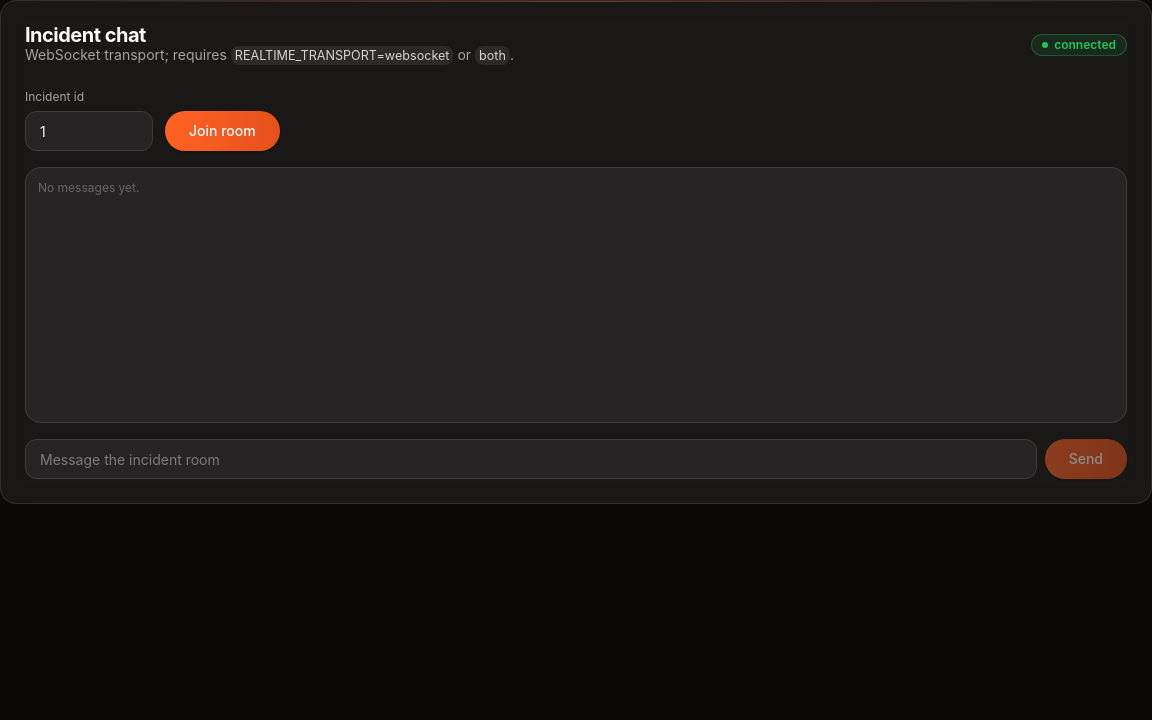
Test: ChatPage › does not send an empty message and leaves an already-joined room
This screenshot has width=1152, height=720.
Click the button "Join room". click: (222, 131)
box: [165,111,280,151]
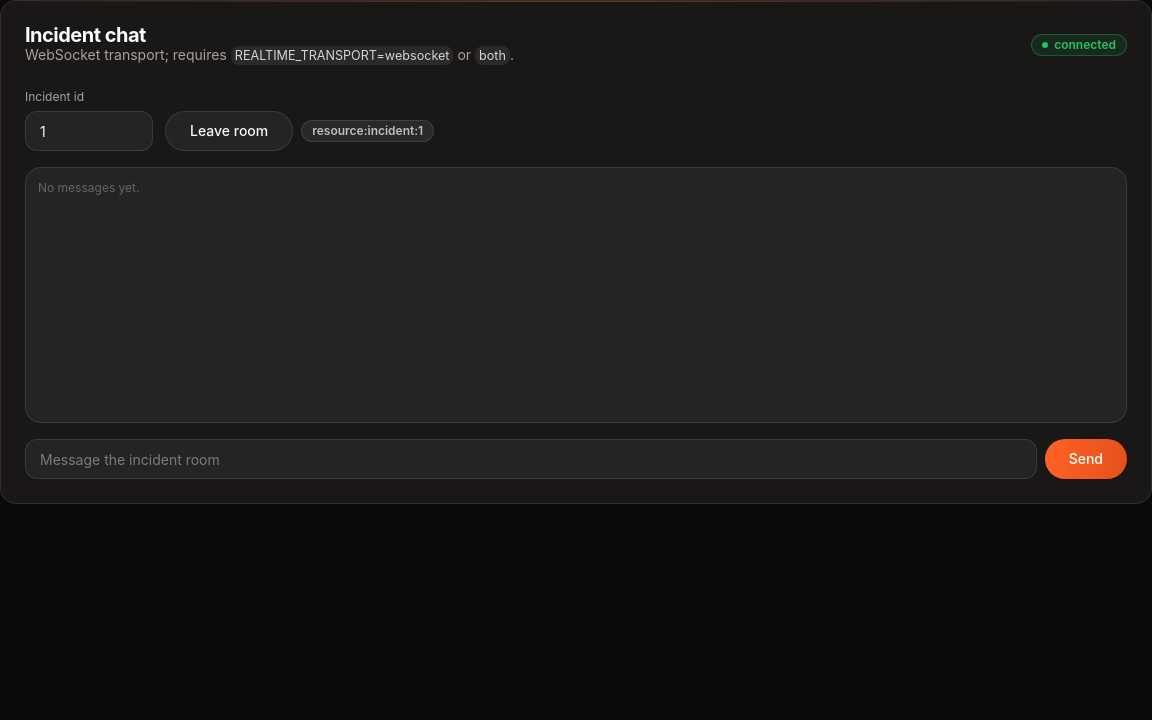
Click the button "Send". click: (1086, 459)
box: [1045,439,1127,479]
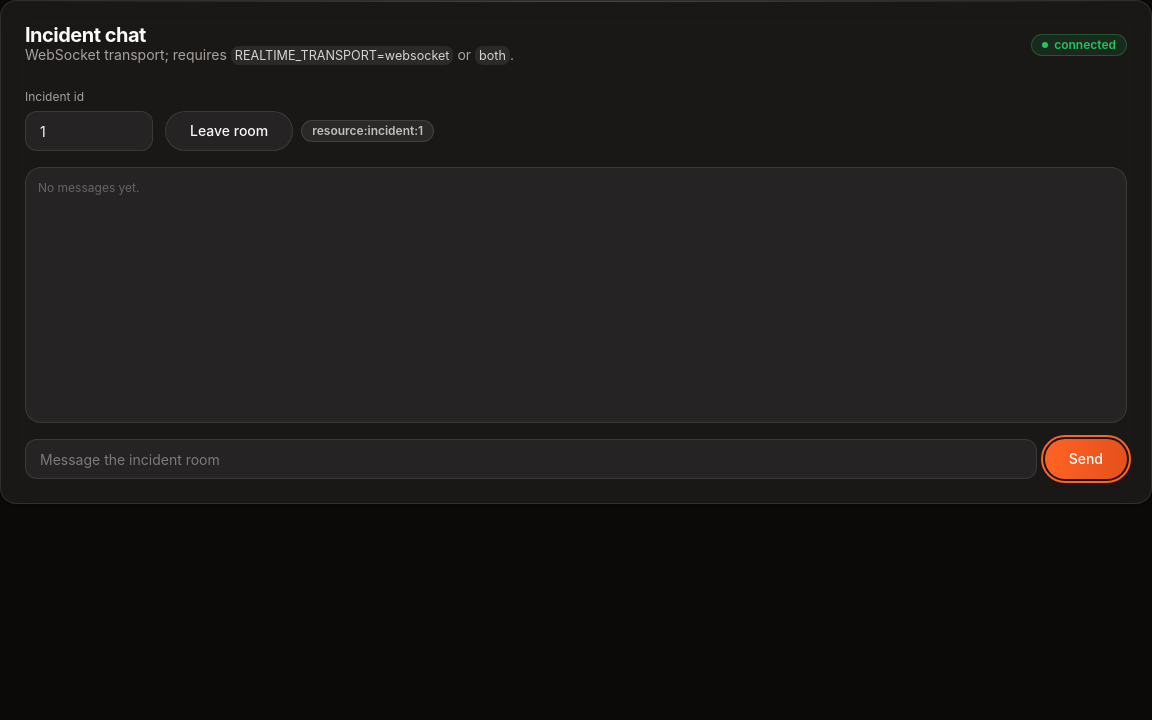
Click the button "Leave room". click: (229, 131)
box: [165,111,293,151]
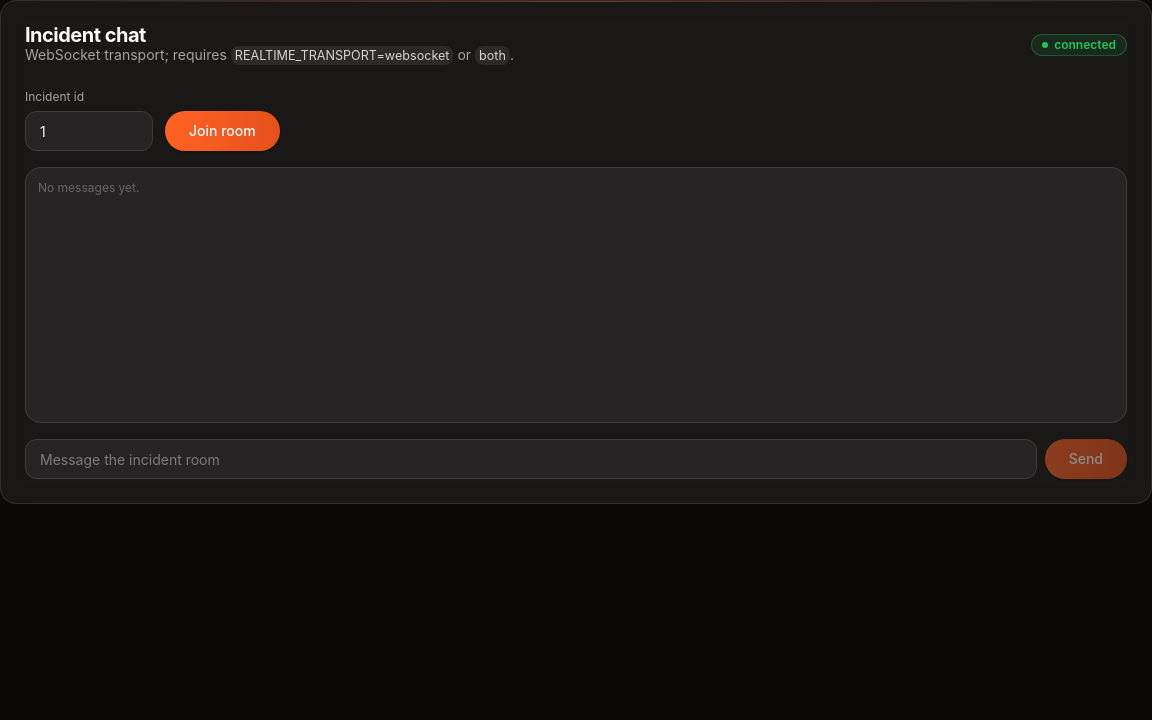
Expected: the button "Join room" is shown, [165,111,280,151]
